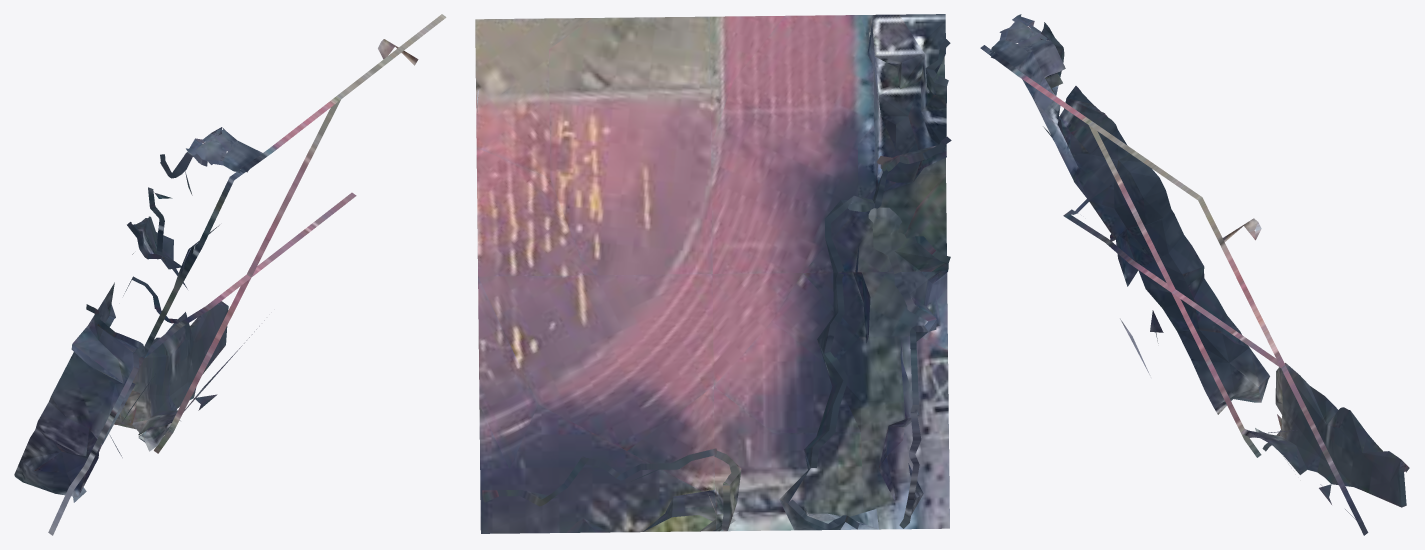
3 views of the same model, side by side, from view 1: azimuth 30°, elevation 25°; view 2: azimuth 150°, elevation 25°; view 3: azimuth 270°, elevation 25° (orthographic). The views are drawn at different scales.
Size of the model in its own units: 38.33 by 36.57 by 35.57.
1 material, 1 textured.
